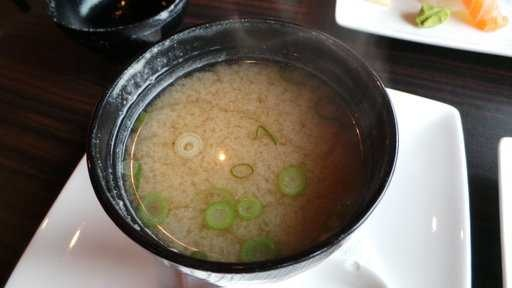soup: (110, 54, 375, 253)
